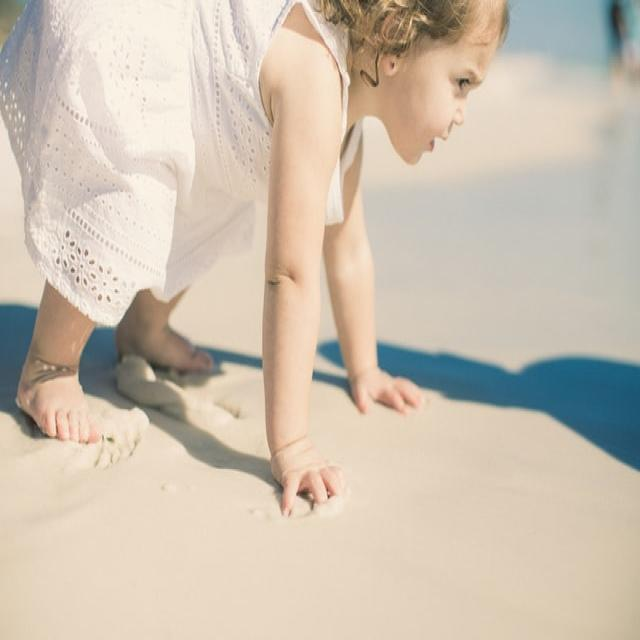non-dog: (2, 0, 516, 518)
